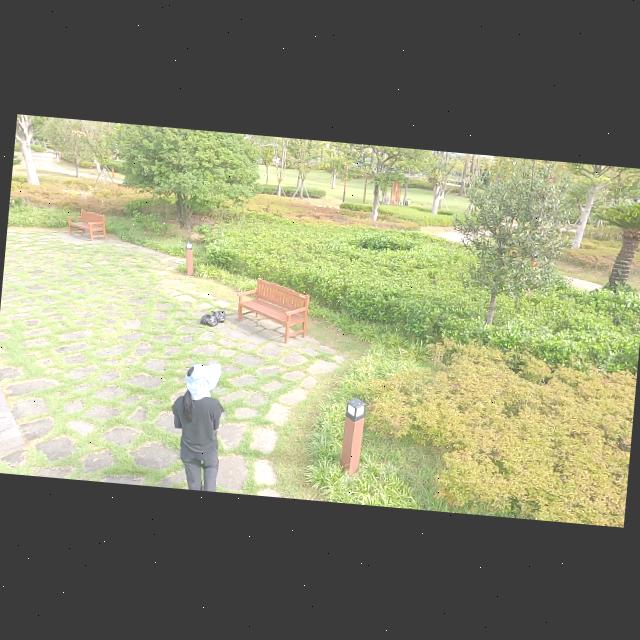trash: (161, 357, 232, 492), (198, 307, 222, 328), (209, 306, 227, 324)
